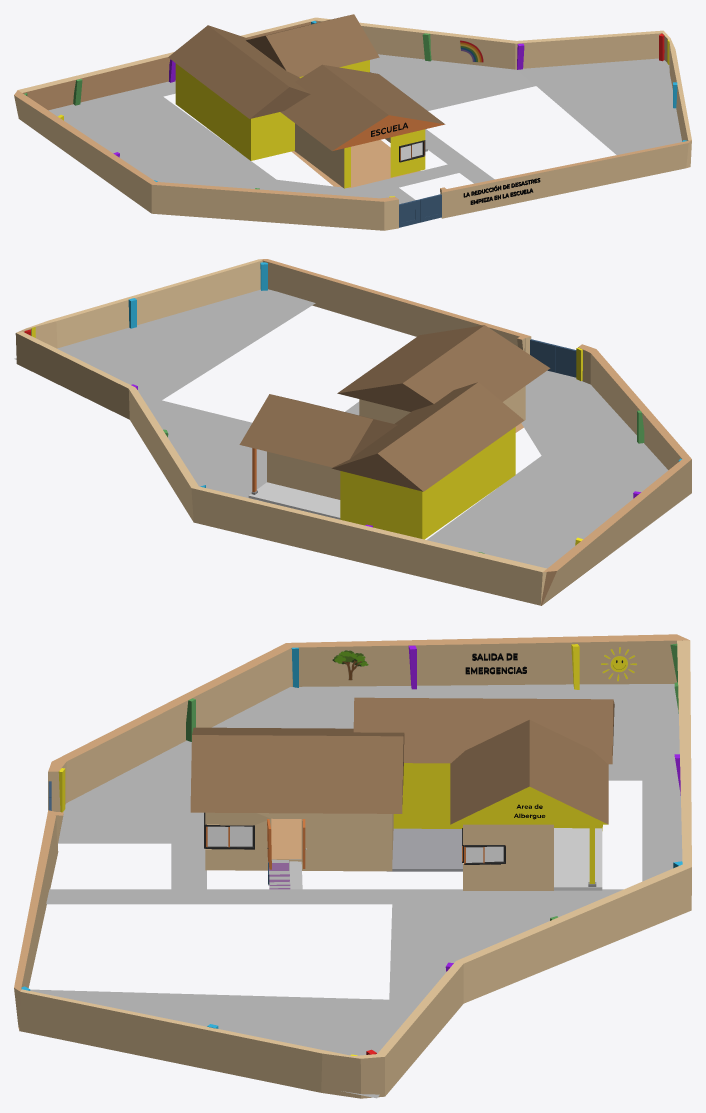
The model's file is EscuelaFinalPintada.glb.
3 renders of one model, top to bottom at view 1: azimuth 30°, elevation 25°; view 2: azimuth 150°, elevation 25°; view 3: azimuth 270°, elevation 25°, orthographic. The views are drawn at different scales.
Parts seen in each view (by area): view 1: Cubo.002, Plano.007, Plano.004, Techo_Modulo_Frente, Techo_Modulo_Trasero, Plano.006, Modulo_Trasero, Techo_Albergue, Modulo_Frente.001, Plano.011, Plano.003, Plano (+7 smaller); view 2: Cubo.002, Plano.004, Plano.007, Techo_Modulo_Frente, Techo_Modulo_Trasero, Modulo_Trasero, Plano.005, Techo_Albergue, Plano.006, Albergue, Alero_Losa_Albergue, Plano.002 (+3 smaller); view 3: Cubo.002, Techo_Modulo_Frente, Techo_Albergue, Plano.007, Techo_Modulo_Trasero, Plano.004, Plano.006, Plano, Modulo_Frente.001, Plano.003, Plano.005, Albergue (+8 smaller).
Part boxes in pixels (bbox=[...]): Cubo.002: bbox=[14, 17, 691, 230]; Plano.007: bbox=[518, 58, 681, 154]; Plano.004: bbox=[64, 96, 276, 187]; Techo_Modulo_Frente: bbox=[280, 64, 445, 150]; Techo_Modulo_Trasero: bbox=[168, 25, 310, 118]; Plano.006: bbox=[370, 54, 535, 110]; Modulo_Trasero: bbox=[175, 63, 294, 160]; Techo_Albergue: bbox=[246, 14, 379, 76]; Modulo_Frente.001: bbox=[294, 123, 425, 188]; Plano.011: bbox=[291, 140, 419, 188]; Plano.003: bbox=[48, 80, 175, 120]; Plano: bbox=[425, 129, 494, 183]; Cubo.002: bbox=[15, 259, 691, 605]; Plano.004: bbox=[427, 456, 652, 568]; Plano.007: bbox=[14, 289, 315, 408]; Techo_Modulo_Frente: bbox=[337, 325, 550, 411]; Techo_Modulo_Trasero: bbox=[331, 382, 524, 491]; Modulo_Trasero: bbox=[340, 427, 515, 539]; Plano.005: bbox=[521, 381, 668, 482]; Techo_Albergue: bbox=[239, 394, 397, 467]; Plano.006: bbox=[149, 400, 266, 494]; Albergue: bbox=[267, 451, 340, 499]; Alero_Losa_Albergue: bbox=[248, 482, 340, 519]; Plano.002: bbox=[525, 370, 579, 414]; Cubo.002: bbox=[14, 634, 691, 1098]; Techo_Modulo_Frente: bbox=[190, 727, 404, 813]; Techo_Albergue: bbox=[450, 719, 608, 824]; Plano.007: bbox=[30, 989, 421, 1098]; Techo_Modulo_Trasero: bbox=[353, 697, 614, 764]; Plano.004: bbox=[290, 684, 646, 780]; Plano.006: bbox=[389, 904, 588, 1000]; Plano: bbox=[46, 889, 623, 904]; Modulo_Frente.001: bbox=[205, 812, 393, 871]; Plano.003: bbox=[642, 684, 682, 881]; Plano.005: bbox=[64, 687, 290, 814]; Albergue: bbox=[463, 824, 553, 890].
Size of the model in its own units: 52.29 by 6.66 by 35.45.
60 materials, 3 textured.
